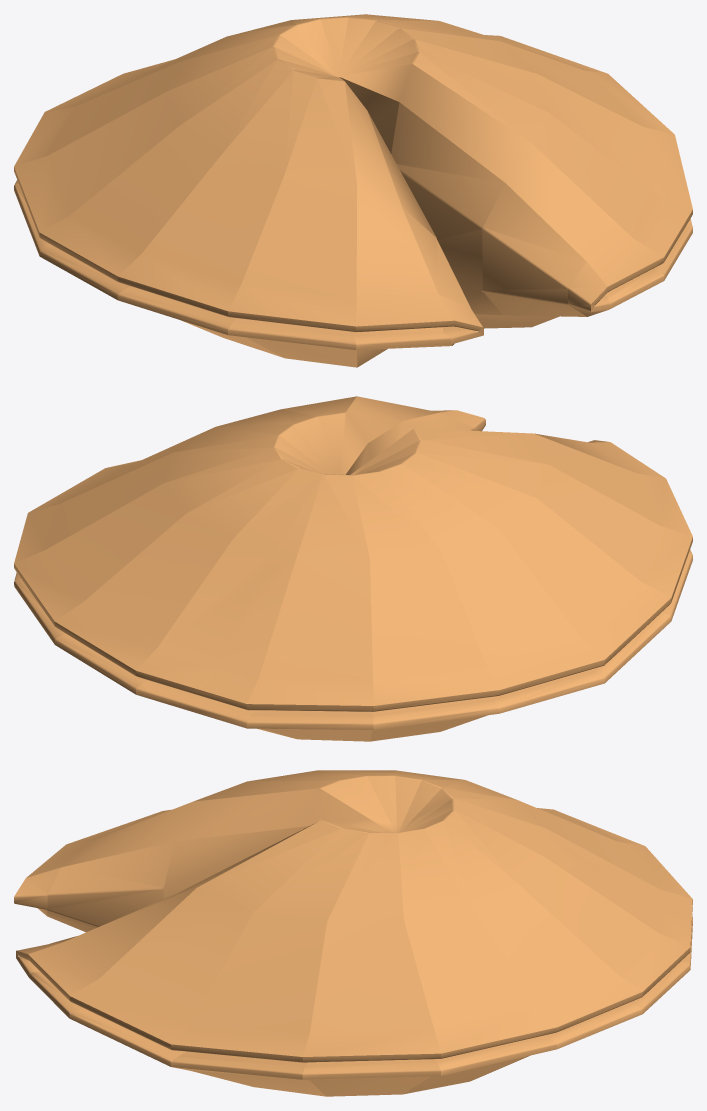
The model's file is fortune-cookie.glb.
3 renders of one model, top to bottom at view 1: azimuth 30°, elevation 25°; view 2: azimuth 150°, elevation 25°; view 3: azimuth 270°, elevation 25°, orthographic. The views are drawn at different scales.
Visible parts, largest first — view 1: CookieLeft, CookieRight; view 2: CookieLeft, CookieRight; view 3: CookieRight, CookieLeft.
Part boxes in pixels (x1,y1,x2,y2): CookieLeft: (14, 25, 483, 367); CookieRight: (172, 14, 692, 328); CookieLeft: (199, 428, 692, 741); CookieRight: (14, 396, 485, 731); CookieRight: (16, 798, 691, 1096); CookieLeft: (14, 770, 692, 938).
Size of the model in its own units: 59.27 by 26.18 by 63.43.
1 material, 1 textured.
